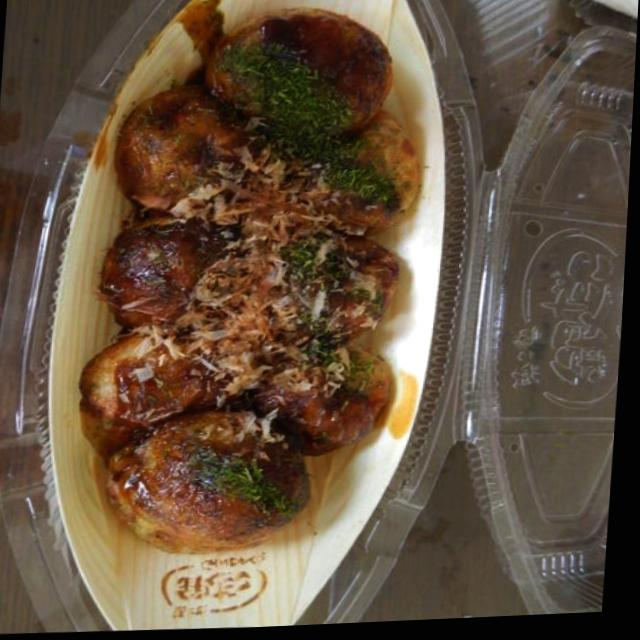炸货点心: (71, 2, 438, 564)
